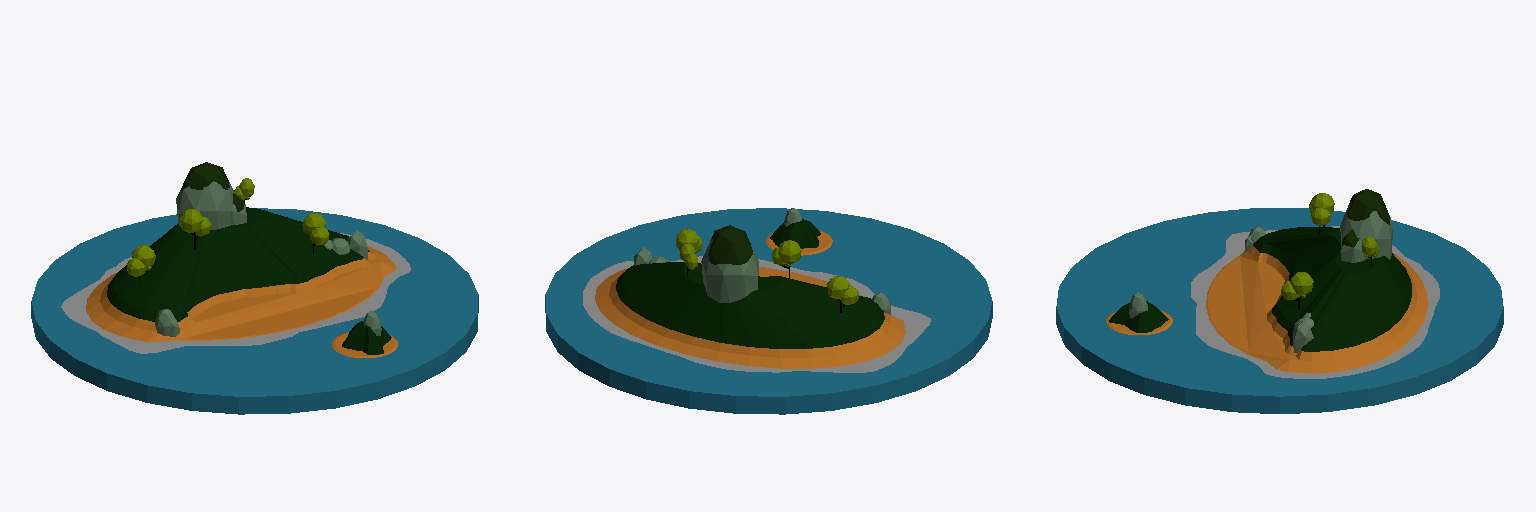
The model's file is Bay_1250.obj.
3 renders of one model, left to right at view 1: azimuth 30°, elevation 25°; view 2: azimuth 150°, elevation 25°; view 3: azimuth 270°, elevation 25°, orthographic.
Parts seen in each view (by area): view 1: Cylinder002, Cylinder003; view 2: Cylinder002, Cylinder003; view 3: Cylinder002, Cylinder003.
Part boxes in pixels (x1,y1,x2,y2): Cylinder002: (31, 208, 478, 414); Cylinder003: (86, 162, 397, 357); Cylinder002: (545, 208, 992, 414); Cylinder003: (595, 208, 905, 368); Cylinder002: (1056, 208, 1503, 413); Cylinder003: (1106, 189, 1427, 373).
Bounding box in the file's own units: 119 × 37.54 × 119.